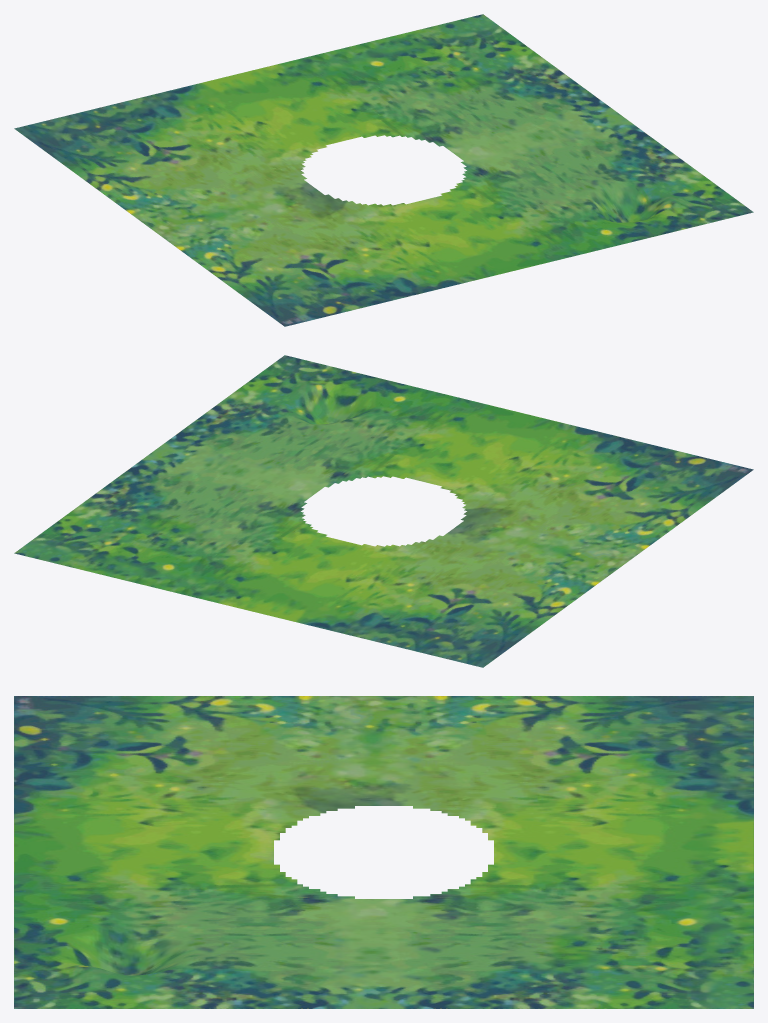
The model's file is hills.glb.
3 views of the same model, one above another, from view 1: azimuth 30°, elevation 25°; view 2: azimuth 150°, elevation 25°; view 3: azimuth 270°, elevation 25° (orthographic). The views are drawn at different scales.
Parts seen in each view (by area): view 1: Hills; view 2: Hills; view 3: Hills.
Boxes of the visible parts, bbox=[...] form: Hills: bbox=[14, 14, 753, 326]; Hills: bbox=[14, 355, 753, 667]; Hills: bbox=[14, 696, 753, 1008].
Size of the model in its own units: 200 by 9.88 by 200.
Materials: 1 (1 with a texture image).
